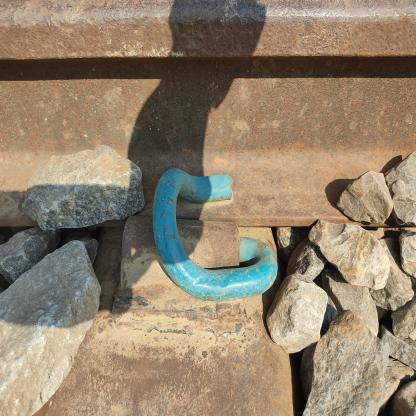Non Defective 1: (121, 80, 311, 284)
